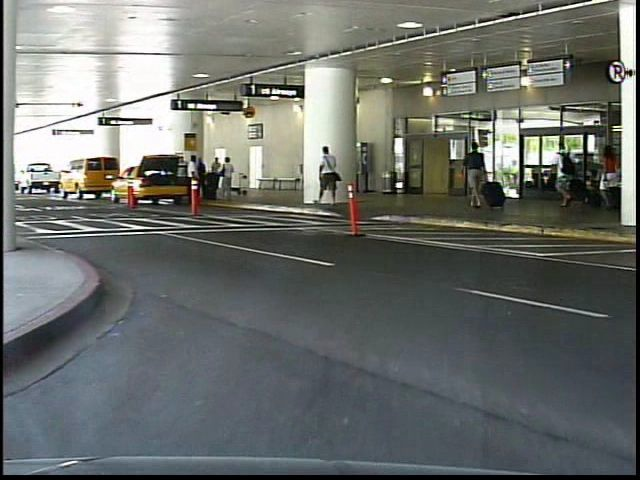person: (549, 138, 586, 218), (597, 133, 626, 218), (464, 138, 494, 214), (316, 143, 347, 211)
